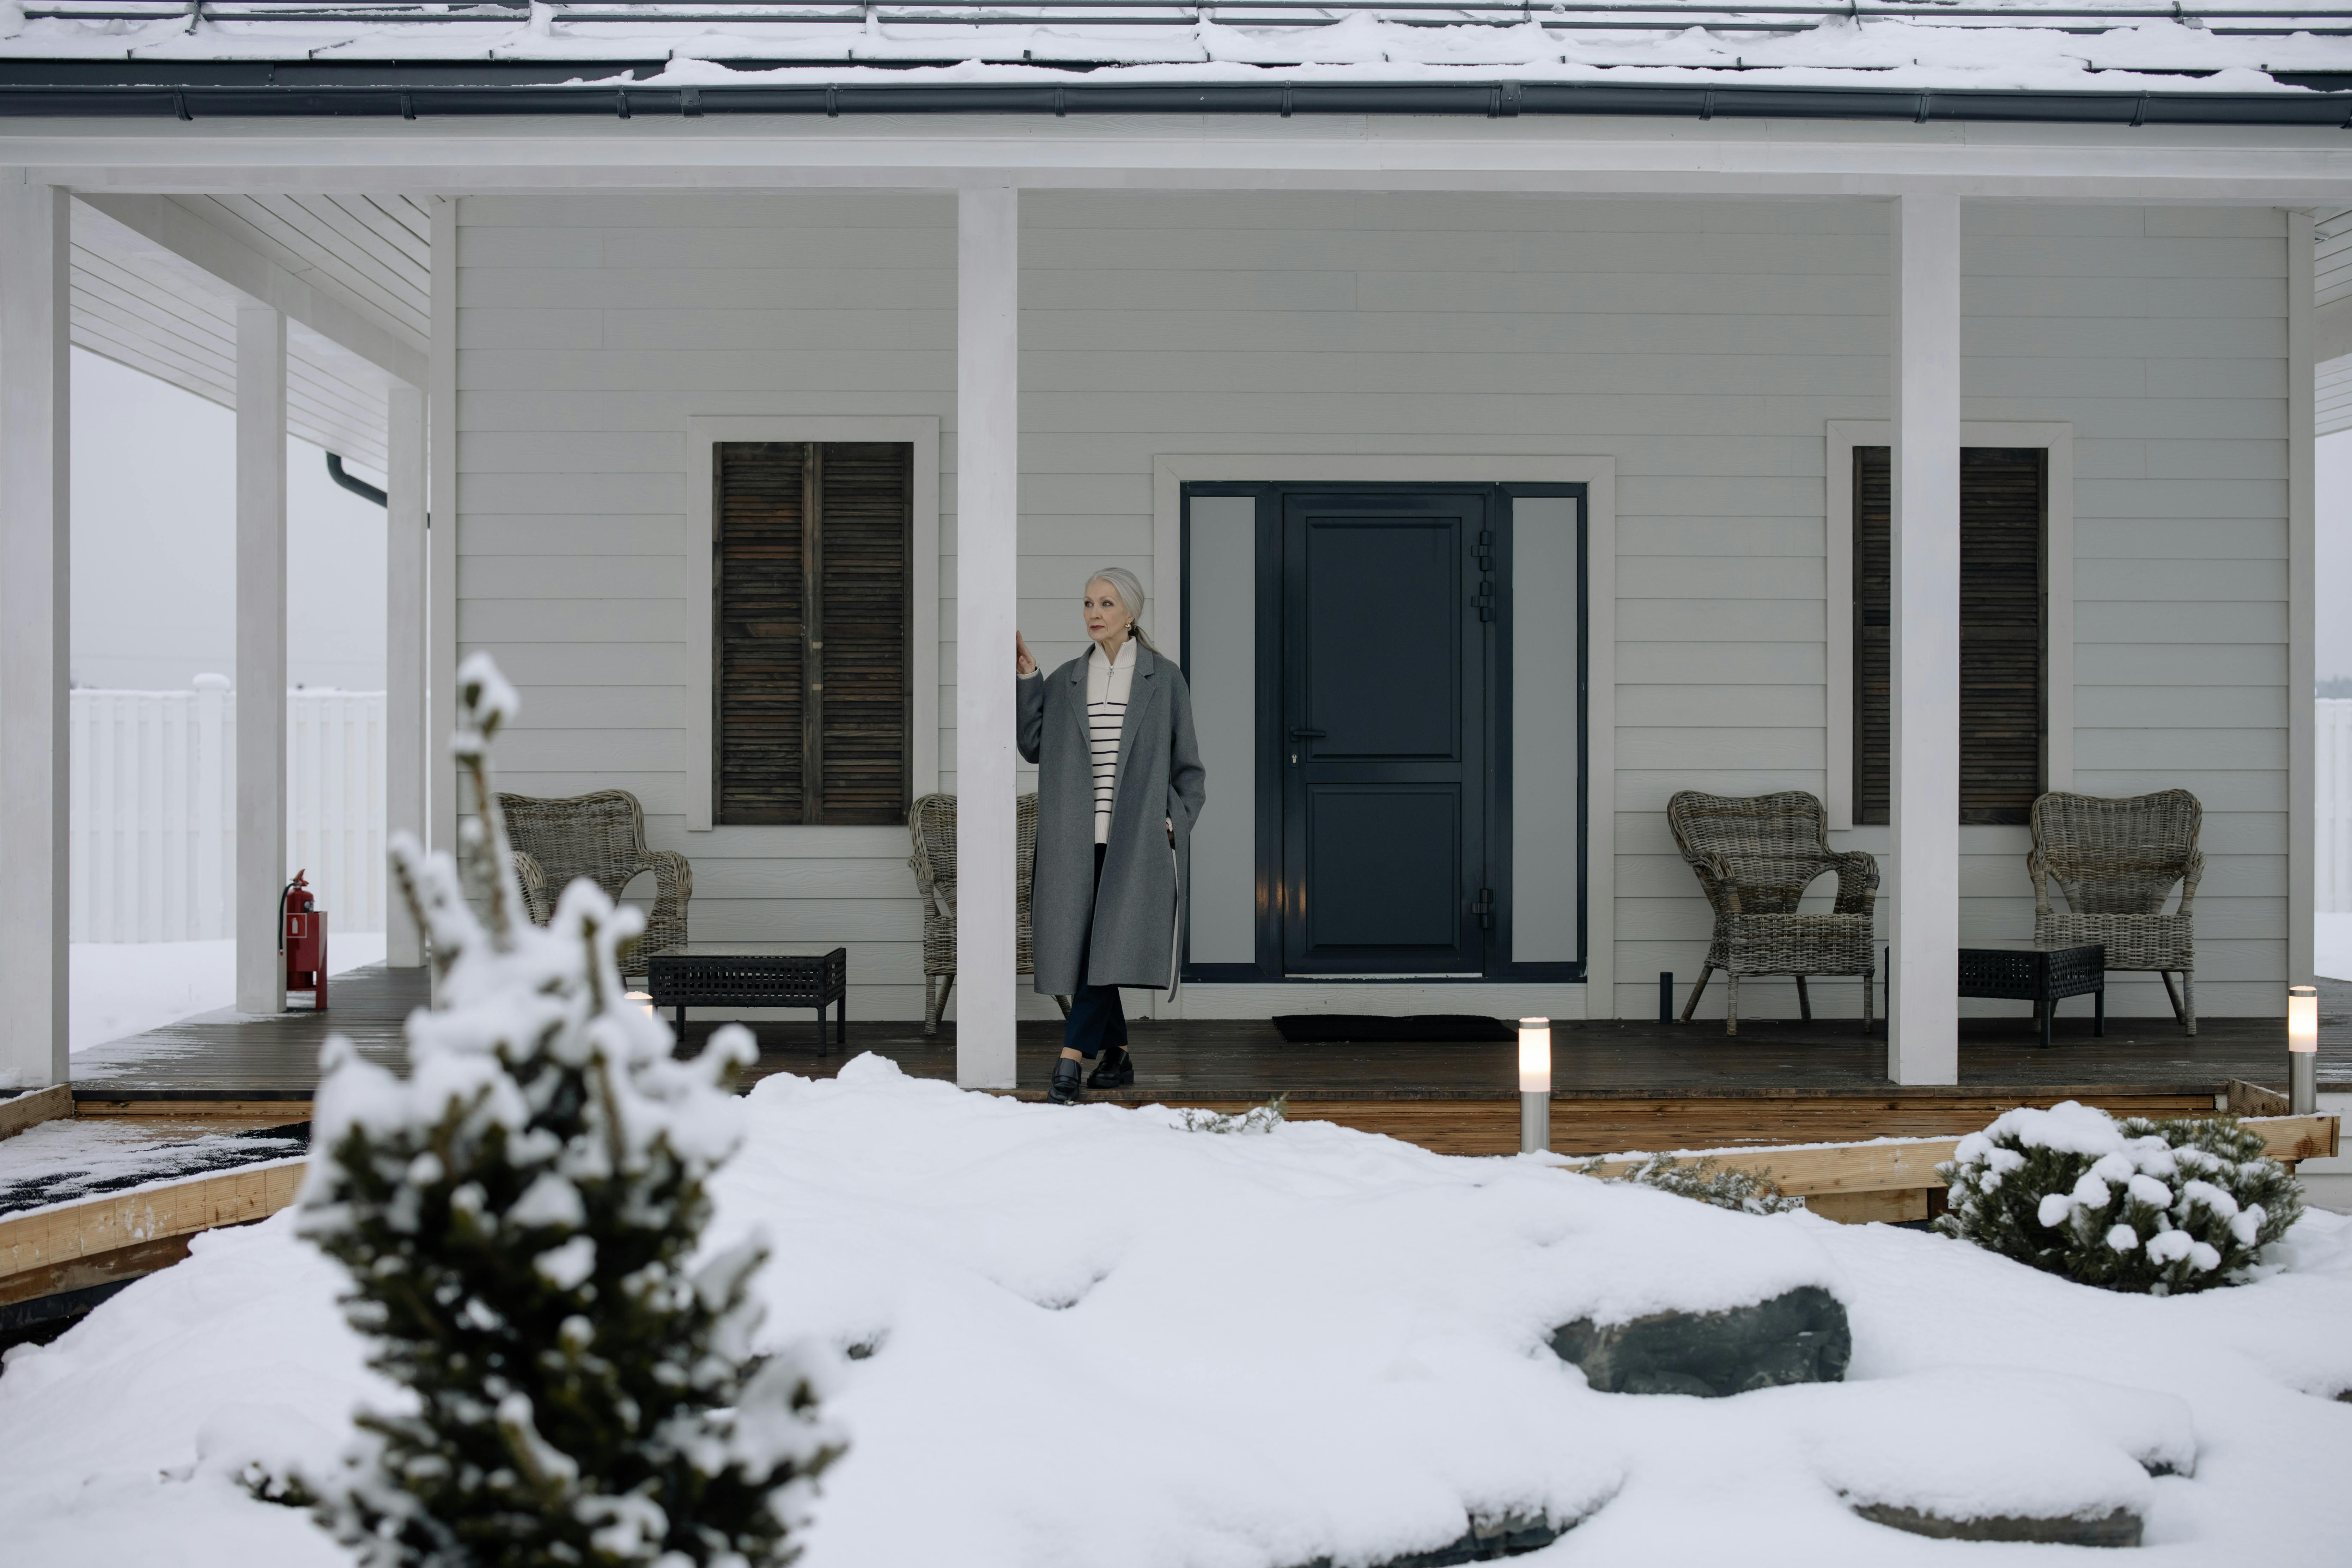extintor: (266, 863, 334, 1017)
